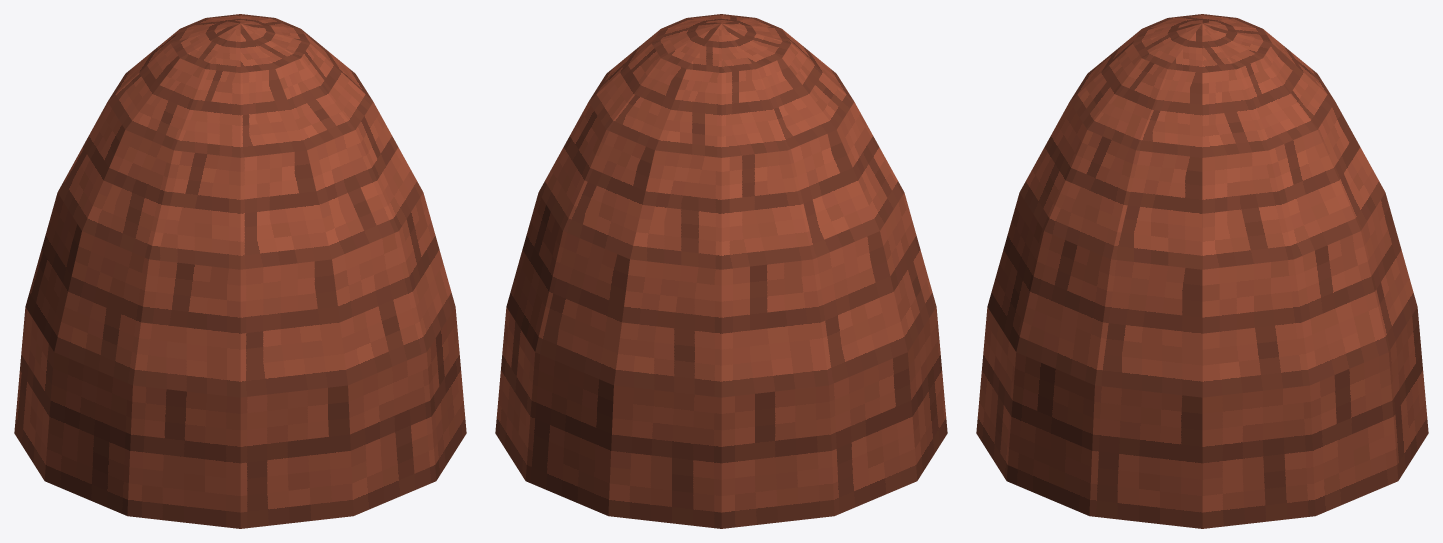
Rendered from dome_brick.glb.
3 views of the same model, side by side, from view 1: azimuth 30°, elevation 25°; view 2: azimuth 150°, elevation 25°; view 3: azimuth 270°, elevation 25° (orthographic).
Parts seen in each view (by area): view 1: dome_brick; view 2: dome_brick; view 3: dome_brick.
Part boxes in pixels (x1,y1,x2,y2): dome_brick: (14,14,466,528); dome_brick: (495,14,947,528); dome_brick: (976,14,1428,528).
Size of the model in its own units: 1 by 1 by 1.
Materials: 1 (1 with a texture image).
